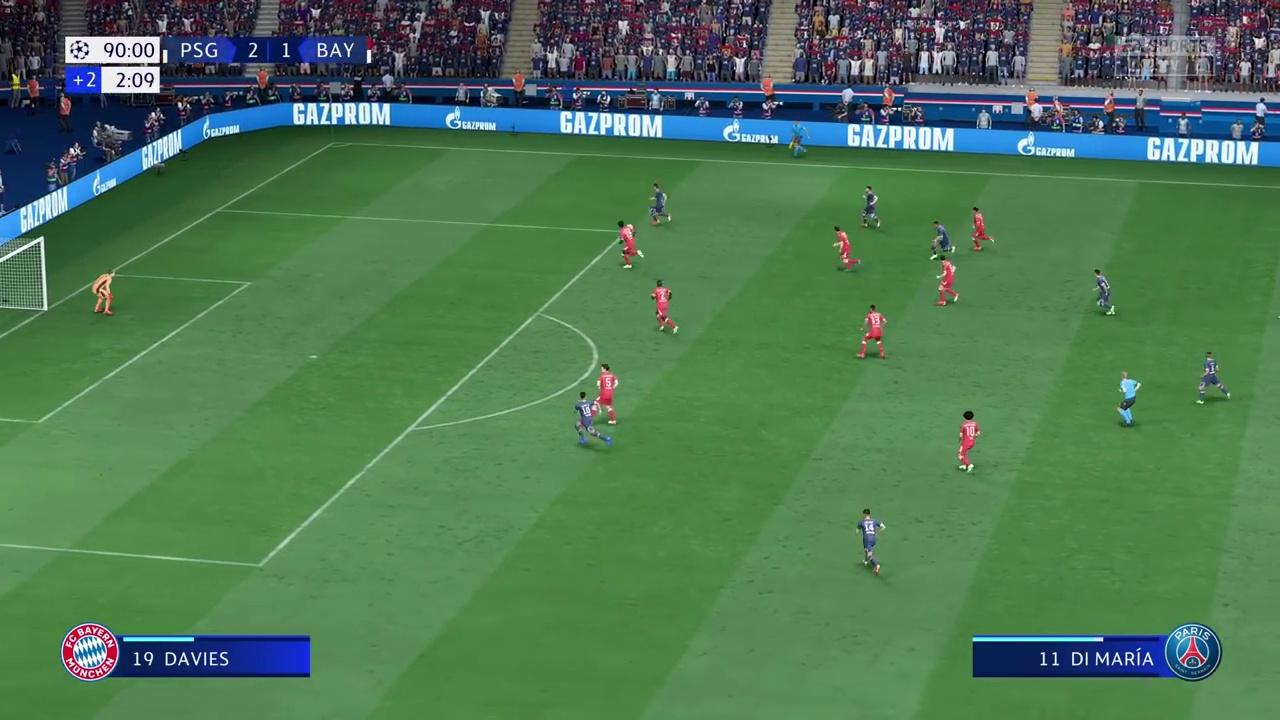scoreboard: (168, 34, 374, 64)
timestamp: (64, 32, 166, 99)
